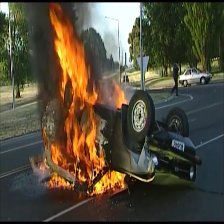fire_h: (51, 2, 106, 185), (87, 169, 127, 196)
fire_l: (48, 172, 73, 188), (113, 80, 127, 108), (39, 156, 50, 171), (42, 127, 48, 151)
